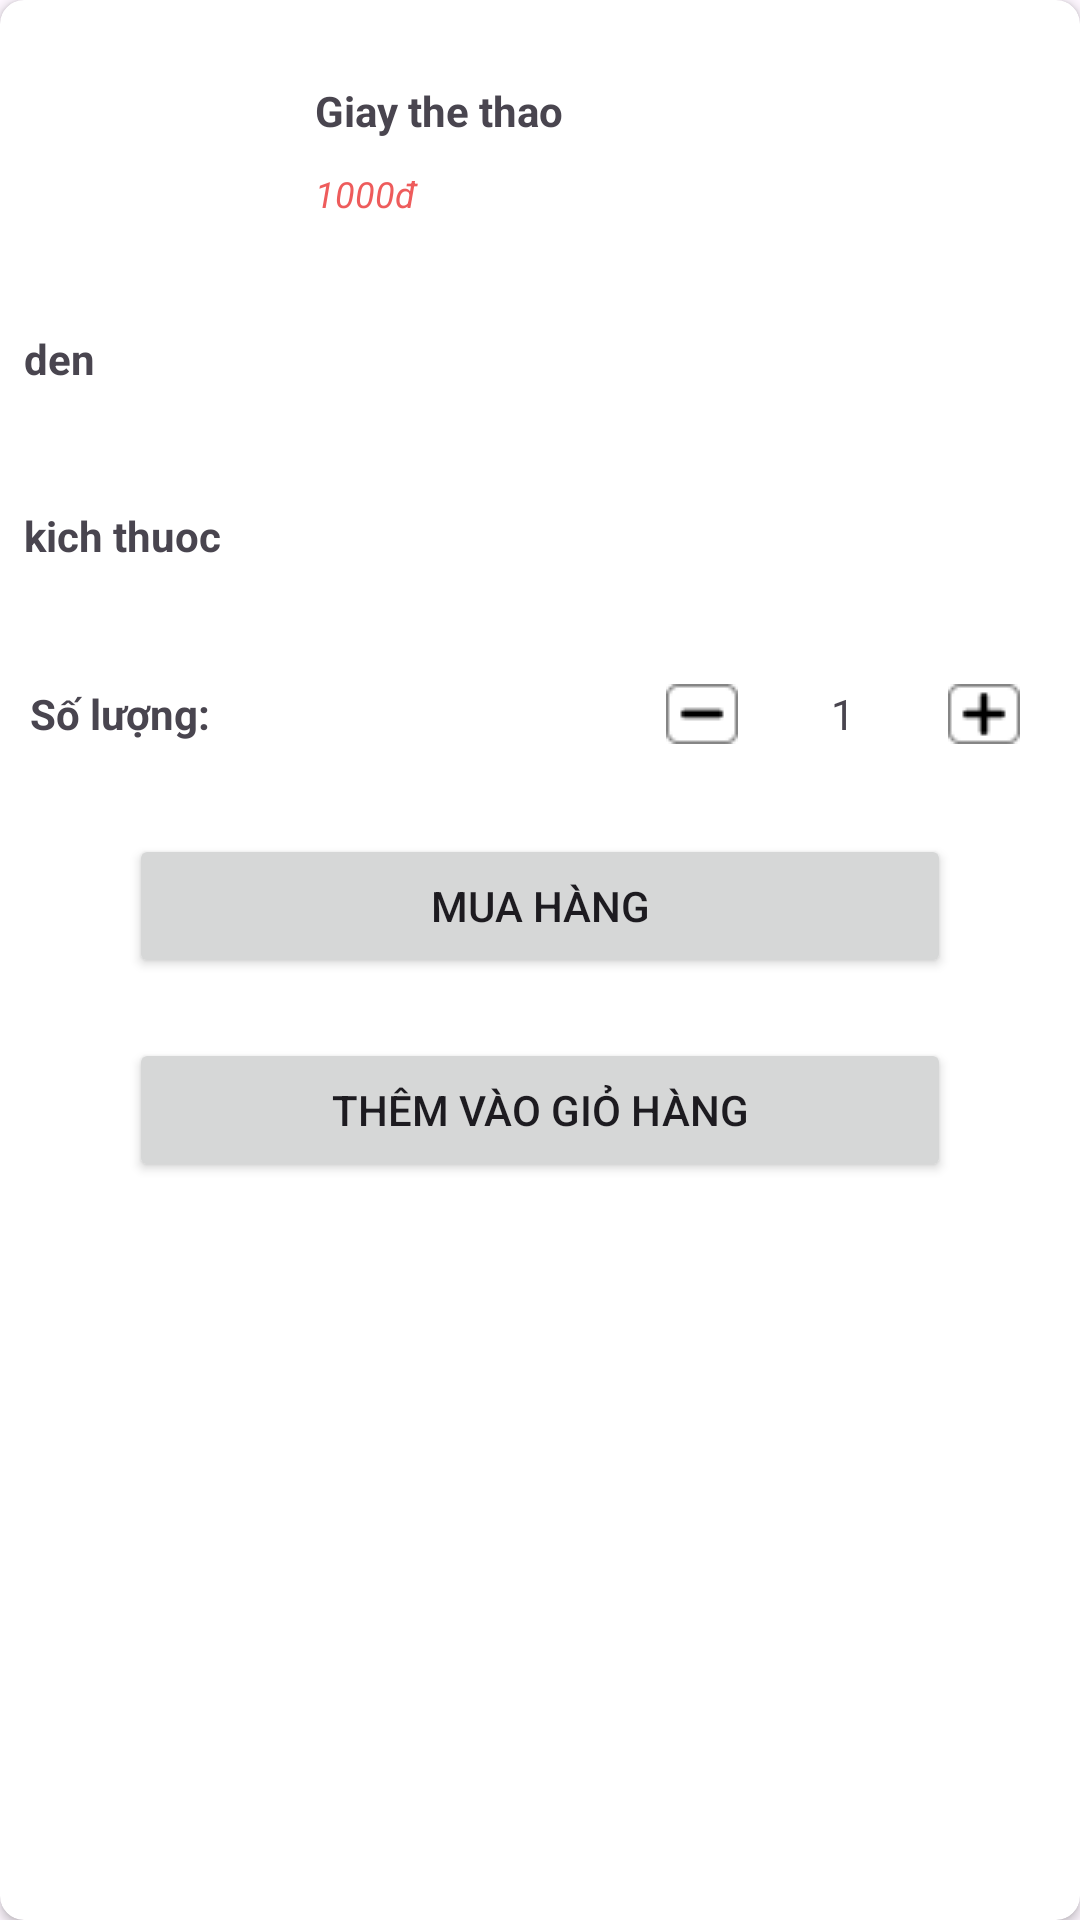

Icon click points for this 1080 x 1920 phone screenshot, format (x=x, y=y):
minus: (x=702, y=714)
plus: (x=984, y=714)
